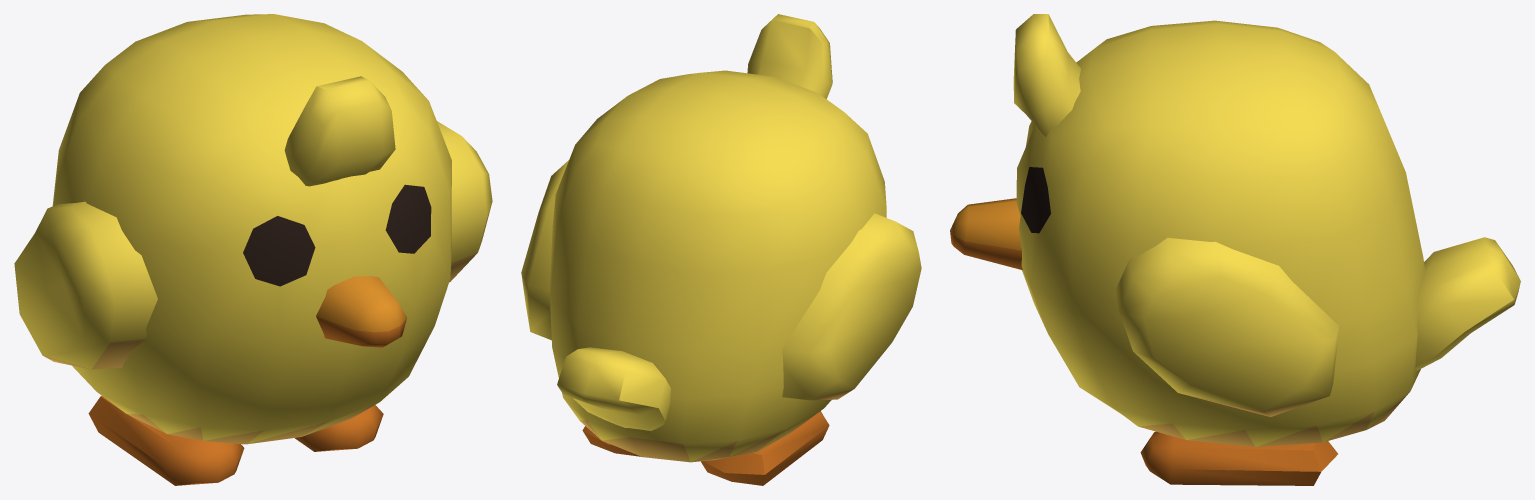
File: itch_tiny_pretty_park_bird.glb
3 views of the same model, side by side, from view 1: azimuth 30°, elevation 25°; view 2: azimuth 150°, elevation 25°; view 3: azimuth 270°, elevation 25° (orthographic). The views are drawn at different scales.
Visible parts, largest first — view 1: bird; view 2: bird; view 3: bird.
Part boxes in pixels (left/top/right/bottom): bird: left=14, top=14, right=492, bottom=485; bird: left=521, top=14, right=921, bottom=485; bird: left=950, top=14, right=1520, bottom=485.
Size of the model in its own units: 0.7718 by 0.7687 by 0.96.
